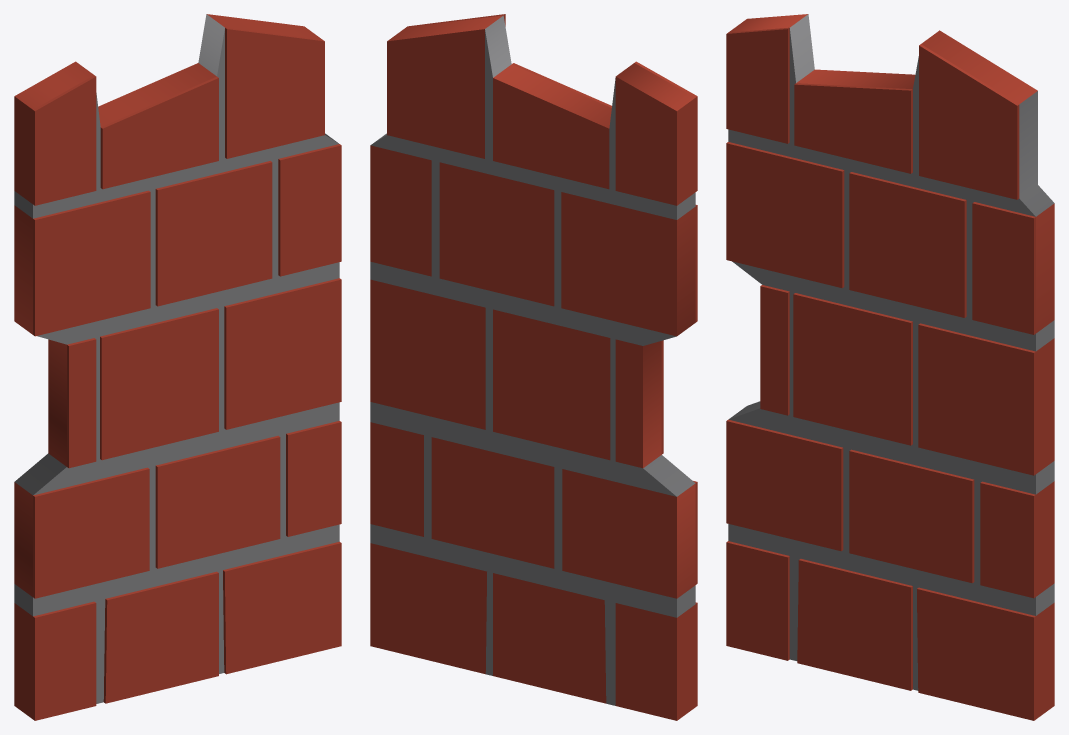
The model's file is Pared2.fbx.
The picture shows the model from 3 angles, left to right: view 1: azimuth 30°, elevation 25°; view 2: azimuth 150°, elevation 25°; view 3: azimuth 330°, elevation 25°; orthographic projection.
Visible parts, largest first — view 1: Pared1; view 2: Pared1; view 3: Pared1.
Part boxes in pixels (x1=…): Pared1: x1=14, y1=14, x2=341, y2=720; Pared1: x1=370, y1=14, x2=697, y2=720; Pared1: x1=726, y1=14, x2=1054, y2=720.
Bounding box in the file's own units: 4.02 × 8.07 × 0.4667.
